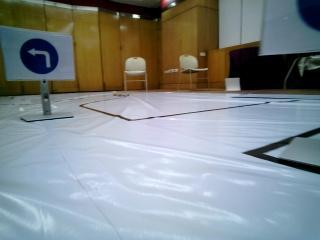left: (11, 34, 68, 80)
